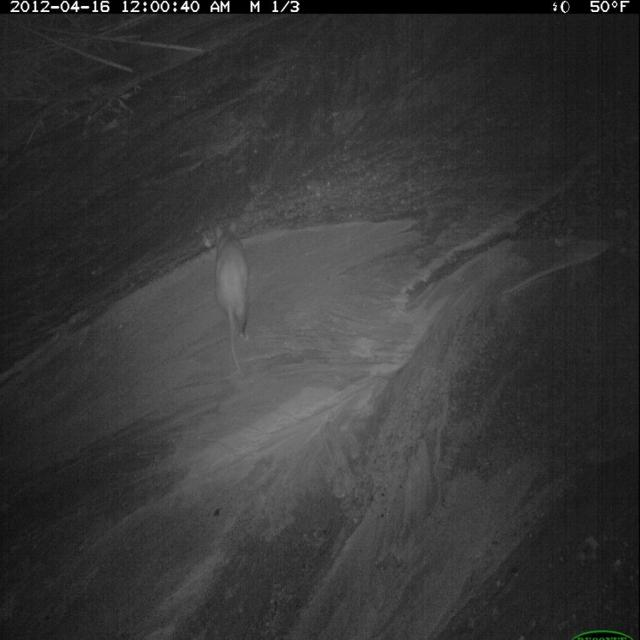opossum: (213, 218, 257, 385)
